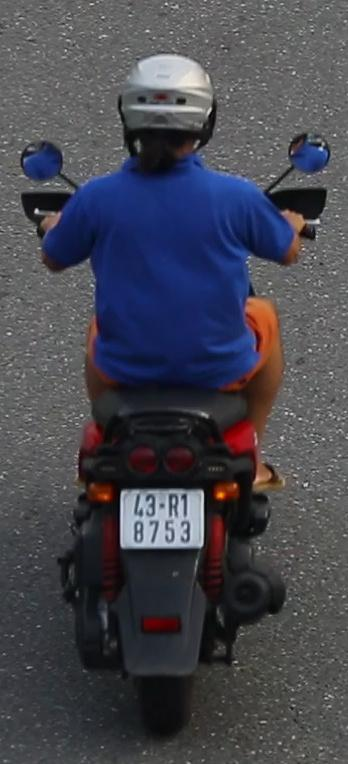LP: (116, 480, 208, 555)
helmet: (116, 46, 220, 174)
